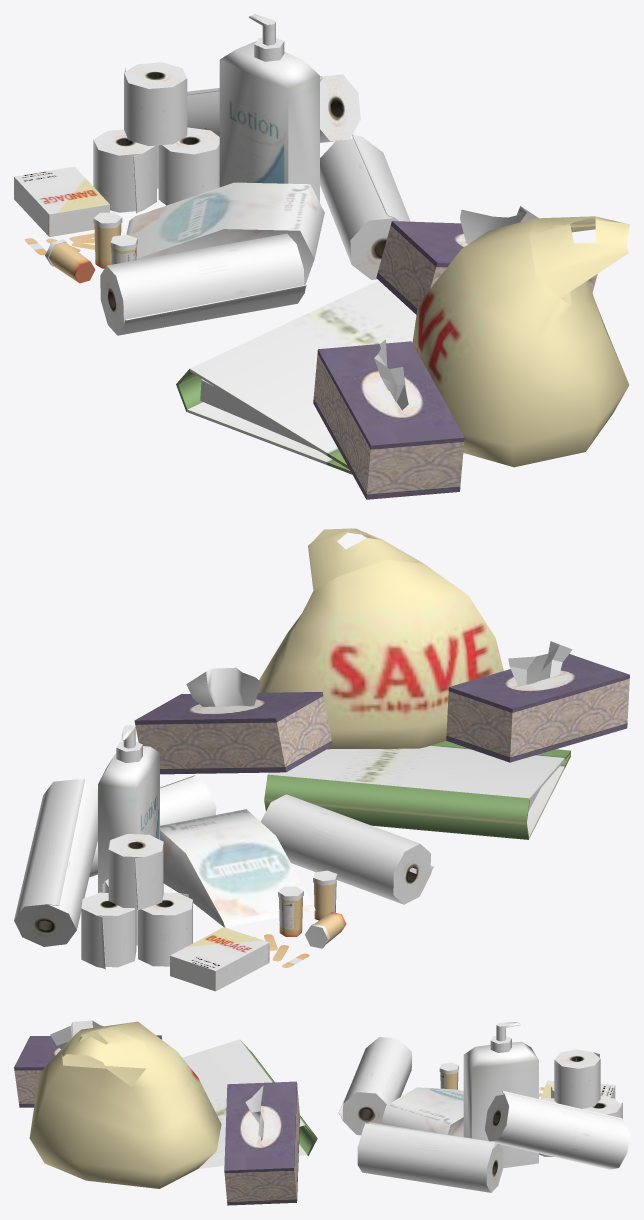
The model's file is trecosDebotaEmCimaDasEstantes.fbx.
3 views of the same model, one above another, from view 1: azimuth 30°, elevation 25°; view 2: azimuth 150°, elevation 25°; view 3: azimuth 270°, elevation 25° (orthographic). The views are drawn at different scales.
Parts seen in each view (by area): view 1: Quarto_A_Remedios.001; view 2: Quarto_A_Remedios.001; view 3: Quarto_A_Remedios.001.
Boxes of the visible parts, x1,y1,x2,y2 form: Quarto_A_Remedios.001: [14, 14, 629, 499]; Quarto_A_Remedios.001: [14, 528, 629, 991]; Quarto_A_Remedios.001: [14, 1020, 629, 1205].
Bounding box in the file's own units: 4921 × 2299 × 9021.
